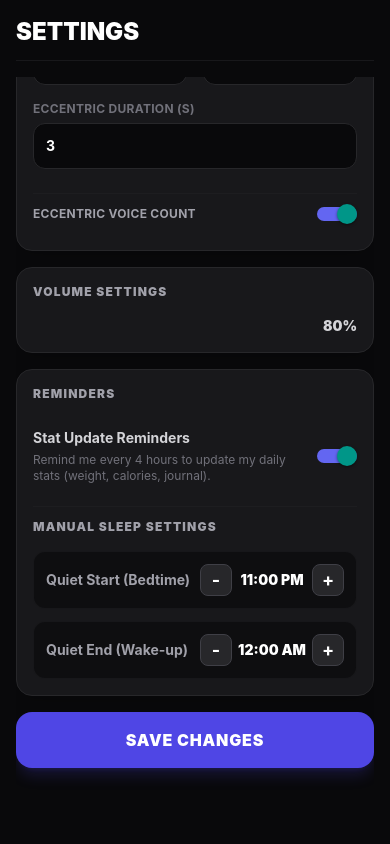
Test case: SettingsModal › manual sleep window › wraps the wake-up hour in both directions
This screenshot has width=390, height=844.
(page scrolled)
Click the element with test id "sleep-end-minus" at (216, 650), box [200, 634, 232, 666]
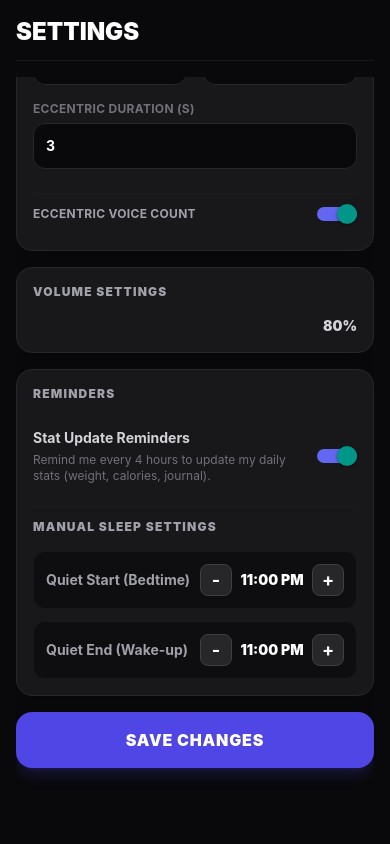
Check: the text with test id "sleep-end-text" reads "11:00 PM", box [240, 641, 304, 658]
Click the element with test id "sleep-end-plus" at (328, 650), box [312, 634, 344, 666]
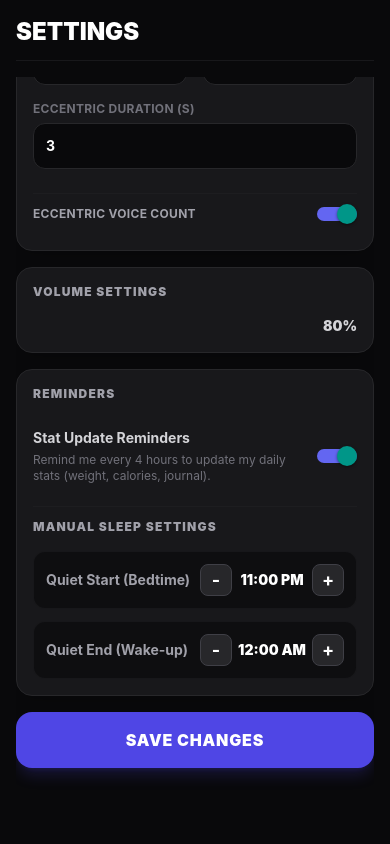
Check: the text with test id "sleep-end-text" reads "12:00 AM", box [238, 641, 306, 658]
